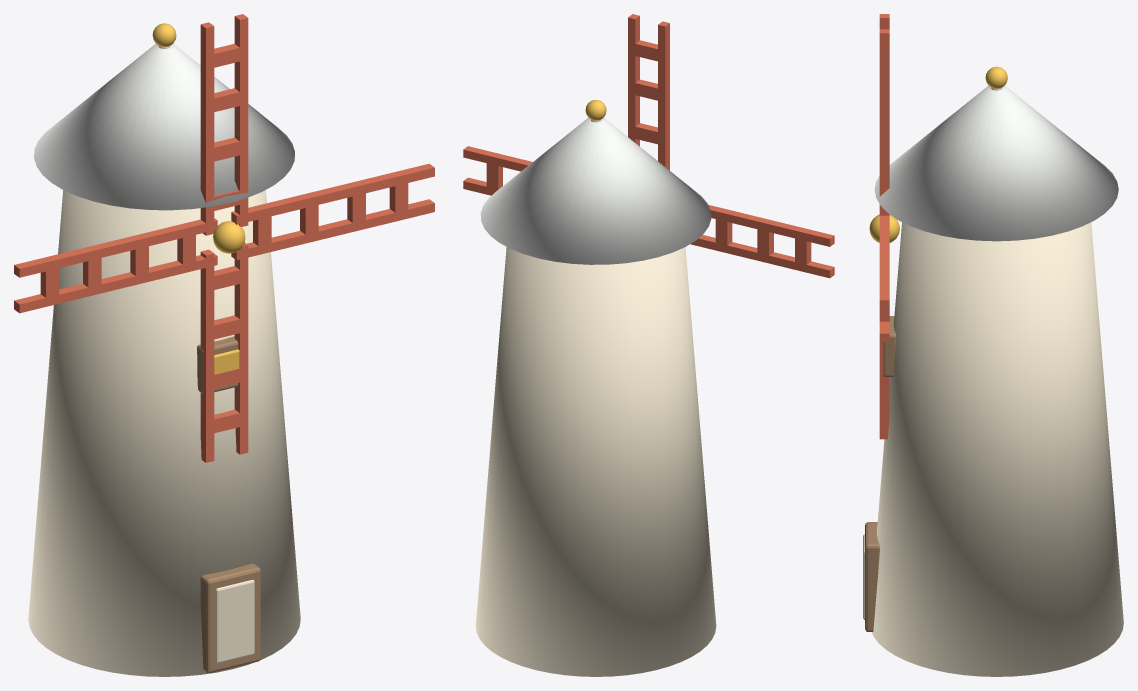
The model's file is windmill.glb.
3 renders of one model, left to right at view 1: azimuth 30°, elevation 25°; view 2: azimuth 150°, elevation 25°; view 3: azimuth 270°, elevation 25°, orthographic. The views are drawn at different scales.
Visible parts, largest first — view 1: windmill_tower, windmill_snow_cap, windmill_blade_0, windmill_blade_2, windmill_blade_3, windmill_blade_1, windmill_door_frame, windmill_door, windmill_hub, windmill_window_frame; view 2: windmill_tower, windmill_snow_cap, windmill_blade_2, windmill_blade_3, windmill_blade_0; view 3: windmill_tower, windmill_snow_cap, windmill_blade_3, windmill_blade_0, windmill_door_frame, windmill_blade_1, windmill_window_frame, windmill_hub, windmill_finial_ball.
Boxes of the visible parts, x1=… form: windmill_tower: x1=28, y1=190, x2=300, y2=676; windmill_snow_cap: x1=34, y1=44, x2=294, y2=210; windmill_blade_0: x1=231, y1=163, x2=434, y2=260; windmill_blade_2: x1=14, y1=218, x2=217, y2=313; windmill_blade_3: x1=200, y1=14, x2=248, y2=235; windmill_blade_1: x1=200, y1=243, x2=248, y2=462; windmill_door_frame: x1=200, y1=563, x2=260, y2=673; windmill_door: x1=215, y1=580, x2=254, y2=663; windmill_hub: x1=213, y1=221, x2=245, y2=253; windmill_window_frame: x1=197, y1=336, x2=238, y2=393; windmill_tower: x1=475, y1=247, x2=716, y2=676; windmill_snow_cap: x1=480, y1=117, x2=711, y2=264; windmill_blade_2: x1=690, y1=205, x2=834, y2=278; windmill_blade_3: x1=628, y1=14, x2=669, y2=170; windmill_blade_0: x1=463, y1=146, x2=532, y2=195; windmill_tower: x1=871, y1=222, x2=1123, y2=676; windmill_snow_cap: x1=874, y1=85, x2=1118, y2=241; windmill_blade_3: x1=879, y1=14, x2=889, y2=215; windmill_blade_0: x1=879, y1=215, x2=889, y2=341; windmill_door_frame: x1=865, y1=522, x2=879, y2=631; windmill_blade_1: x1=879, y1=342, x2=889, y2=439; windmill_window_frame: x1=883, y1=316, x2=896, y2=376; windmill_hub: x1=869, y1=214, x2=899, y2=242; windmill_finial_ball: x1=985, y1=66, x2=1007, y2=88.
Size of the model in its own units: 1.76 by 2.6 by 1.03.
